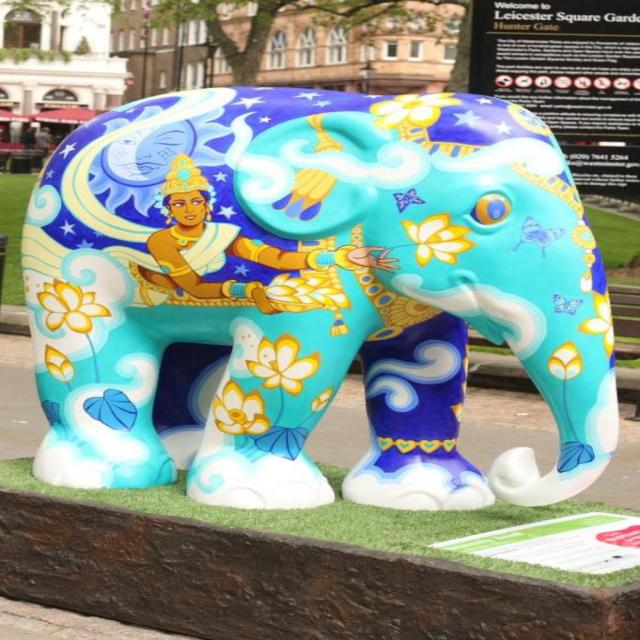elephant: (22, 91, 626, 516)
